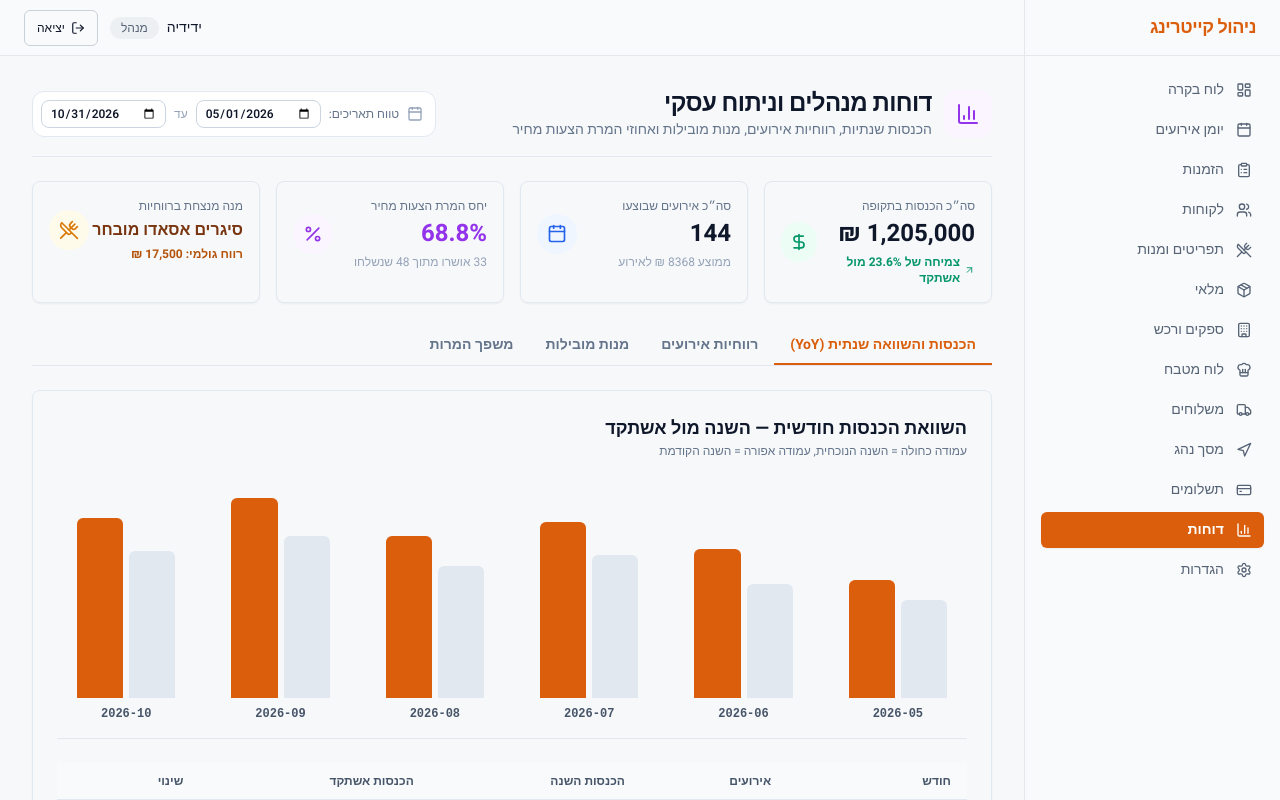
Test: S15 Executive Reports & Business Analytics › switches between report tabs: profitability, top dishes, and quote conversion
Expected: the heading "דוחות מנהלים וניתוח עסקי" is shown, left=664, top=86, right=932, bottom=121
Switch to Profitability tab
Click the button "רווחיות אירועים": (710, 346) left=645, top=327, right=774, bottom=365
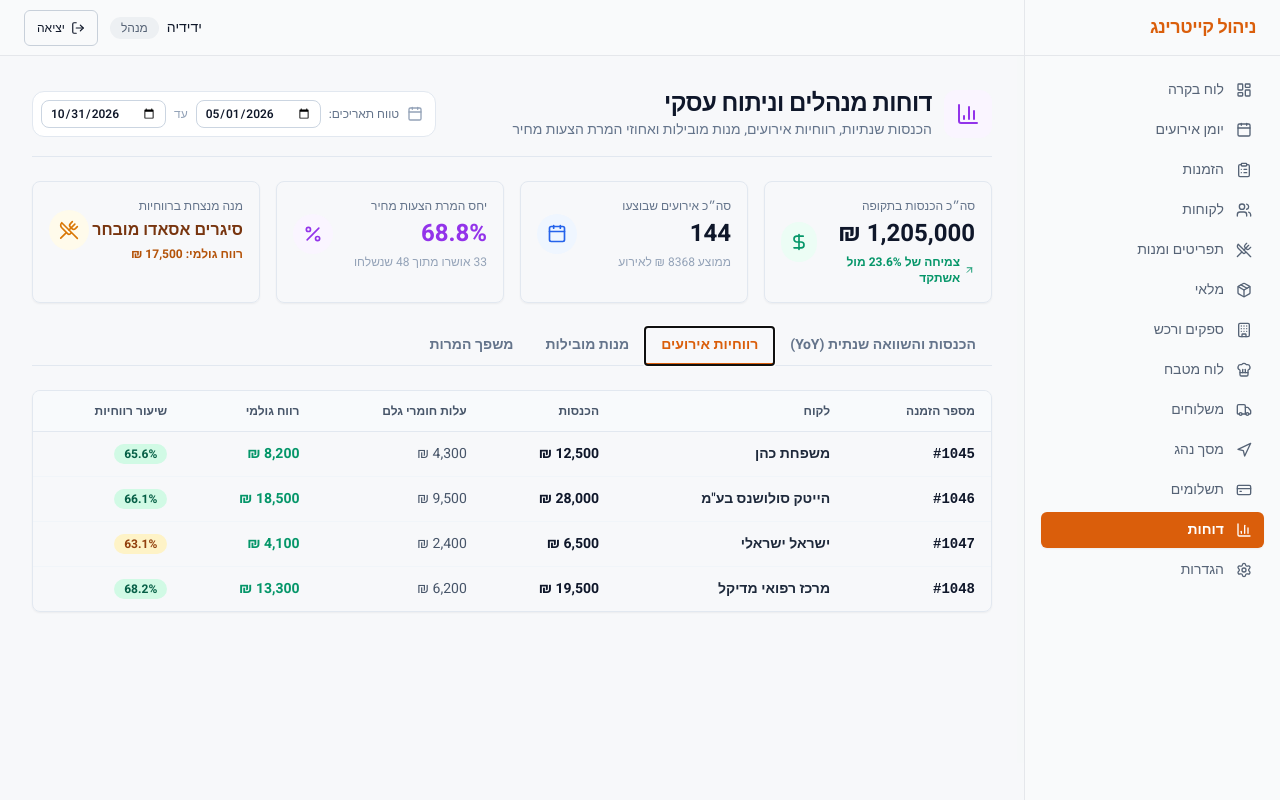
Result: the column heading "עלות חומרי גלם" is shown at left=316, top=391, right=483, bottom=432
Result: the column heading "רווח גולמי" is shown at left=183, top=391, right=316, bottom=432
Result: the column heading "שיעור רווחיות" is shown at left=33, top=391, right=183, bottom=432
Switch to Top Dishes tab
Click the button "מנות מובילות": (587, 346) left=529, top=327, right=645, bottom=365
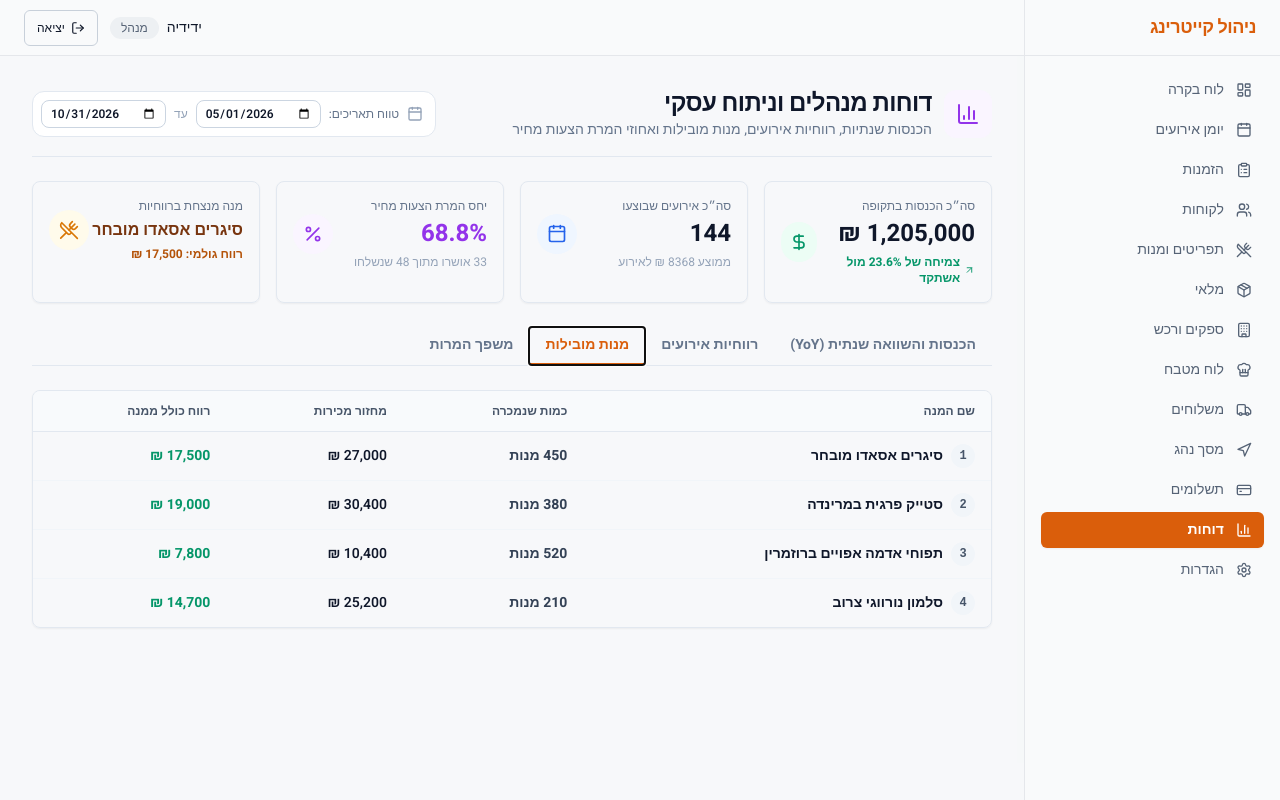
Result: the column heading "שם המנה" is shown at left=583, top=391, right=991, bottom=432
Switch to Quote Conversion tab
Click the button "משפך המרות": (472, 346) left=414, top=327, right=530, bottom=365
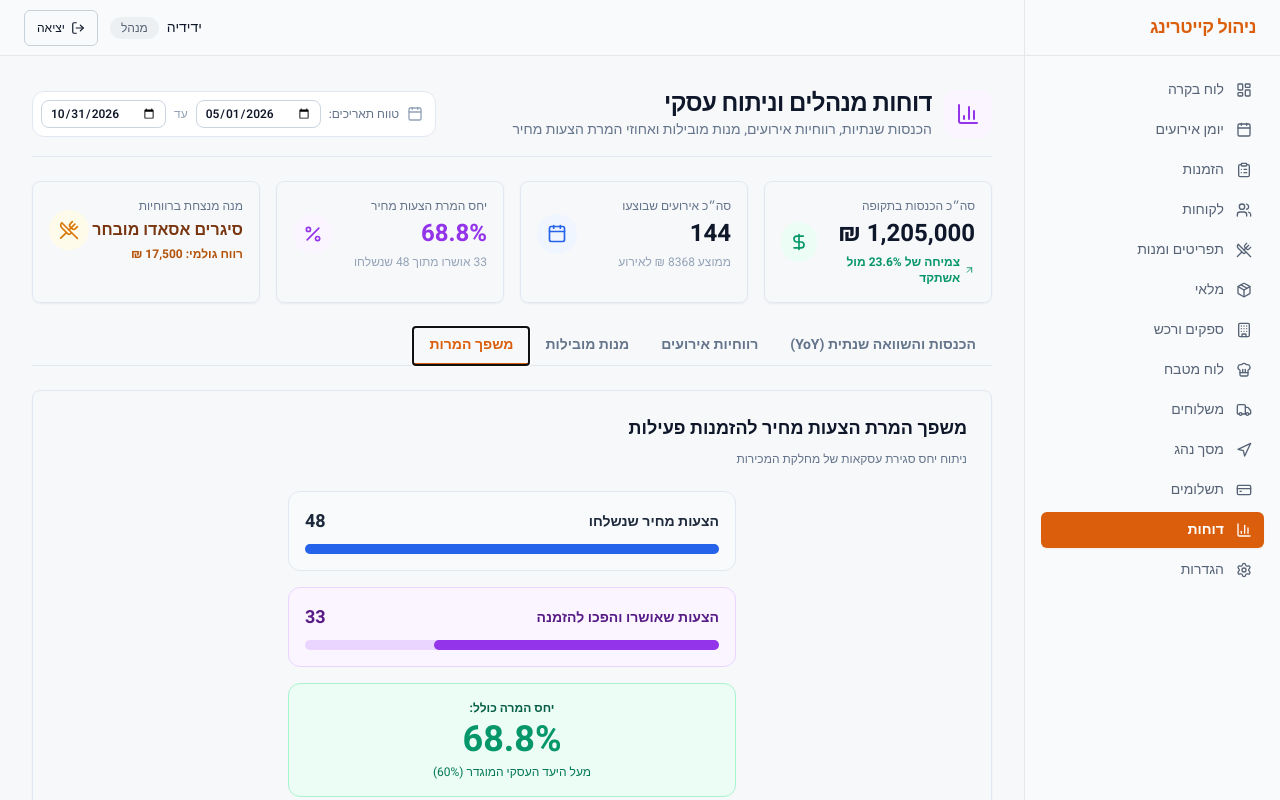
Result: the heading "משפך המרת הצעות מחיר להזמנות פעילות" is shown at left=629, top=415, right=967, bottom=442
Result: the text "יחס המרה כולל:" is shown at left=470, top=699, right=554, bottom=717
